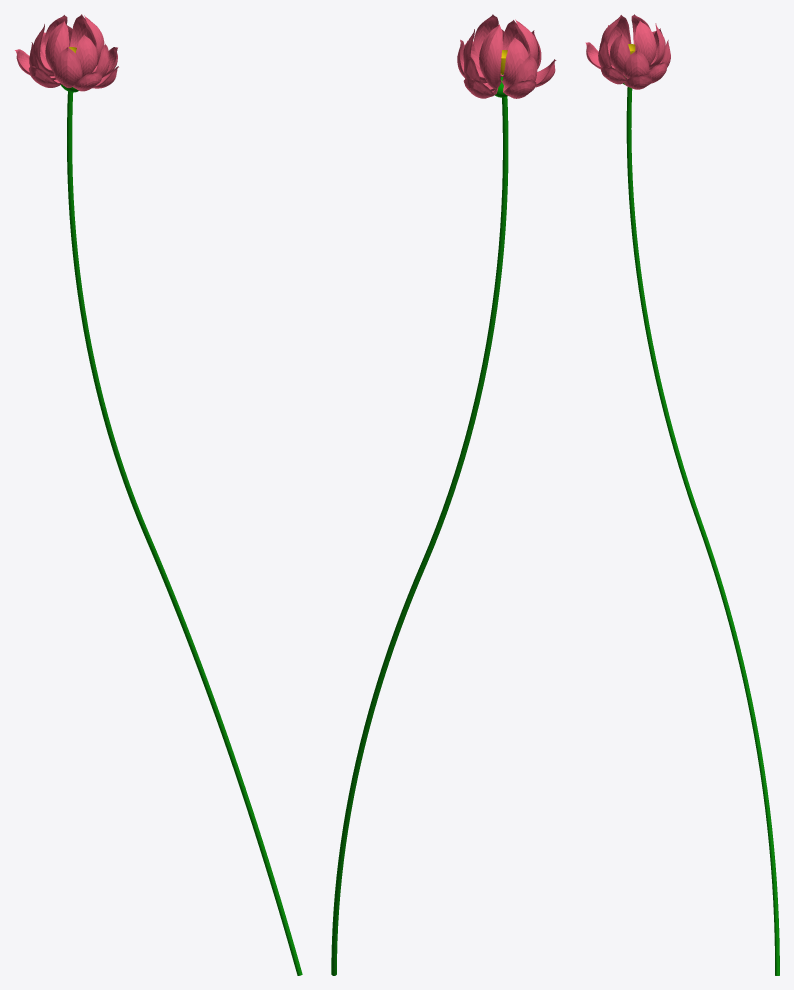
Rendered from Lotus054.fbx.
3 views of the same model, side by side, from view 1: azimuth 30°, elevation 25°; view 2: azimuth 150°, elevation 25°; view 3: azimuth 330°, elevation 25° (orthographic). The views are drawn at different scales.
Parts seen in each view (by area): view 1: pCylinder5, nurbsToPoly16, nurbsToPoly21, nurbsToPoly18; view 2: pCylinder5, nurbsToPoly23, nurbsToPoly20; view 3: pCylinder5, nurbsToPoly22, nurbsToPoly18, nurbsToPoly13.
Part boxes in pixels (x1,y1,x2,y2): pCylinder5: (67,91,302,975); nurbsToPoly16: (53,47,82,87); nurbsToPoly21: (45,21,69,72); nurbsToPoly18: (75,35,97,77); pCylinder5: (331,96,508,975); nurbsToPoly23: (479,24,502,88); nurbsToPoly20: (501,37,528,88); pCylinder5: (626,87,779,975); nurbsToPoly22: (635,20,656,66); nurbsToPoly18: (609,34,630,75); nurbsToPoly13: (623,50,649,78).
Size of the model in its own units: 52.48 by 204 by 24.35.
